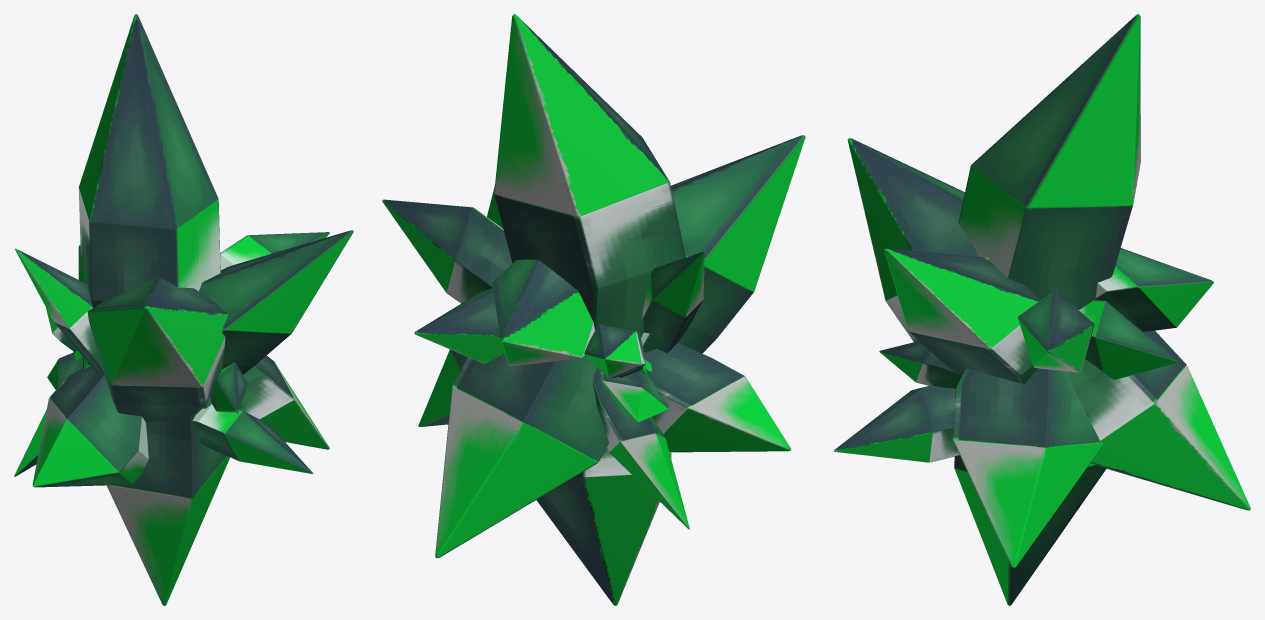
The model's file is modelCrystal.fbx.
The picture shows the model from 3 angles, left to right: view 1: azimuth 30°, elevation 25°; view 2: azimuth 150°, elevation 25°; view 3: azimuth 270°, elevation 25°; orthographic projection. The views are drawn at different scales.
Parts seen in each view (by area): view 1: polySurface1, polySurface2, polySurface8, polySurface3, polySurface13, polySurface15, polySurface10, polySurface4, polySurface16, polySurface5, polySurface12, polySurface11; view 2: polySurface1, polySurface9, polySurface2, polySurface13, polySurface8, polySurface18, polySurface16, polySurface11, polySurface4, polySurface17, polySurface6, polySurface12 (+1 smaller); view 3: polySurface1, polySurface10, polySurface9, polySurface3, polySurface2, polySurface15, polySurface18, polySurface8, polySurface16, polySurface17, polySurface5.
Boxes of the visible parts, bbox=[...] form: polySurface1: bbox=[78, 14, 220, 307]; polySurface2: bbox=[87, 277, 227, 422]; polySurface8: bbox=[106, 280, 229, 605]; polySurface3: bbox=[198, 230, 353, 387]; polySurface13: bbox=[32, 362, 148, 487]; polySurface15: bbox=[192, 404, 312, 473]; polySurface10: bbox=[203, 355, 329, 449]; polySurface4: bbox=[15, 248, 131, 385]; polySurface16: bbox=[220, 232, 329, 270]; polySurface5: bbox=[210, 362, 248, 414]; polySurface12: bbox=[47, 352, 89, 389]; polySurface11: bbox=[14, 409, 46, 476]; polySurface1: bbox=[494, 14, 685, 337]; polySurface9: bbox=[435, 353, 608, 558]; polySurface2: bbox=[641, 135, 805, 353]; polySurface13: bbox=[637, 343, 791, 452]; polySurface8: bbox=[507, 216, 671, 605]; polySurface18: bbox=[492, 259, 594, 366]; polySurface16: bbox=[382, 199, 512, 303]; polySurface11: bbox=[592, 367, 689, 529]; polySurface4: bbox=[642, 251, 704, 353]; polySurface17: bbox=[414, 288, 504, 363]; polySurface6: bbox=[584, 324, 646, 378]; polySurface12: bbox=[600, 360, 668, 422]; polySurface1: bbox=[958, 14, 1140, 309]; polySurface10: bbox=[952, 348, 1102, 567]; polySurface9: bbox=[1069, 330, 1250, 510]; polySurface3: bbox=[884, 248, 1040, 383]; polySurface2: bbox=[847, 138, 977, 341]; polySurface15: bbox=[834, 385, 959, 462]; polySurface18: bbox=[1095, 248, 1213, 331]; polySurface8: bbox=[954, 257, 1106, 605]; polySurface16: bbox=[1017, 290, 1094, 372]; polySurface17: bbox=[1079, 300, 1177, 379]; polySurface5: bbox=[879, 341, 960, 388].
Size of the model in its own units: 4.98 by 7.98 by 4.96.
1 material, 1 textured.
